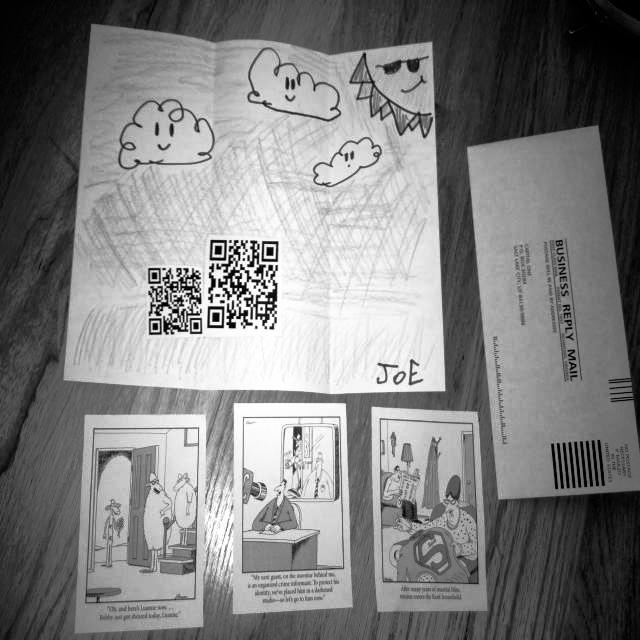qr_code: (207, 240, 279, 329), (148, 268, 202, 335)
